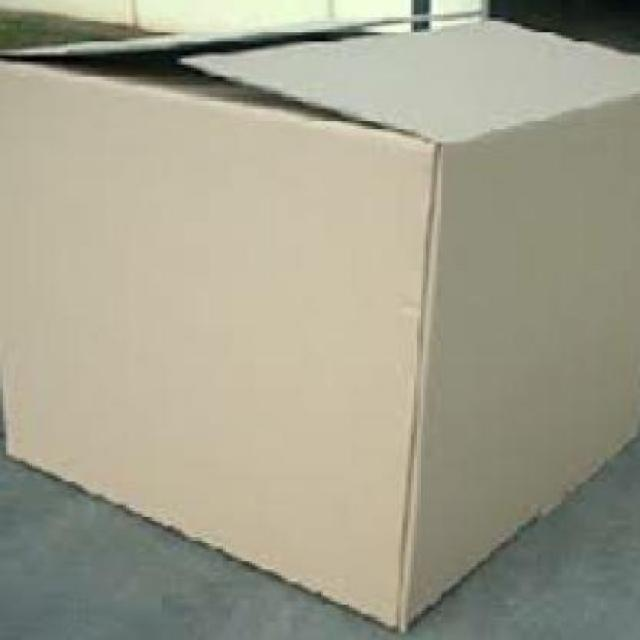box: (0, 8, 637, 638)
